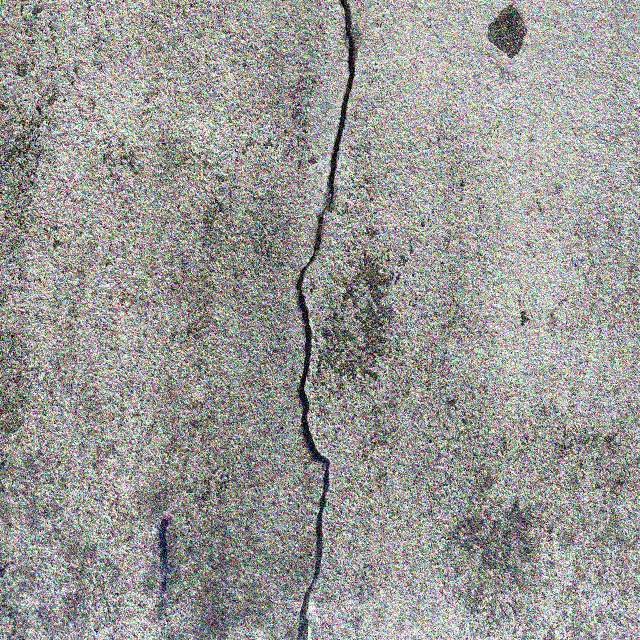SurfaceCrack: (245, 0, 401, 640)
